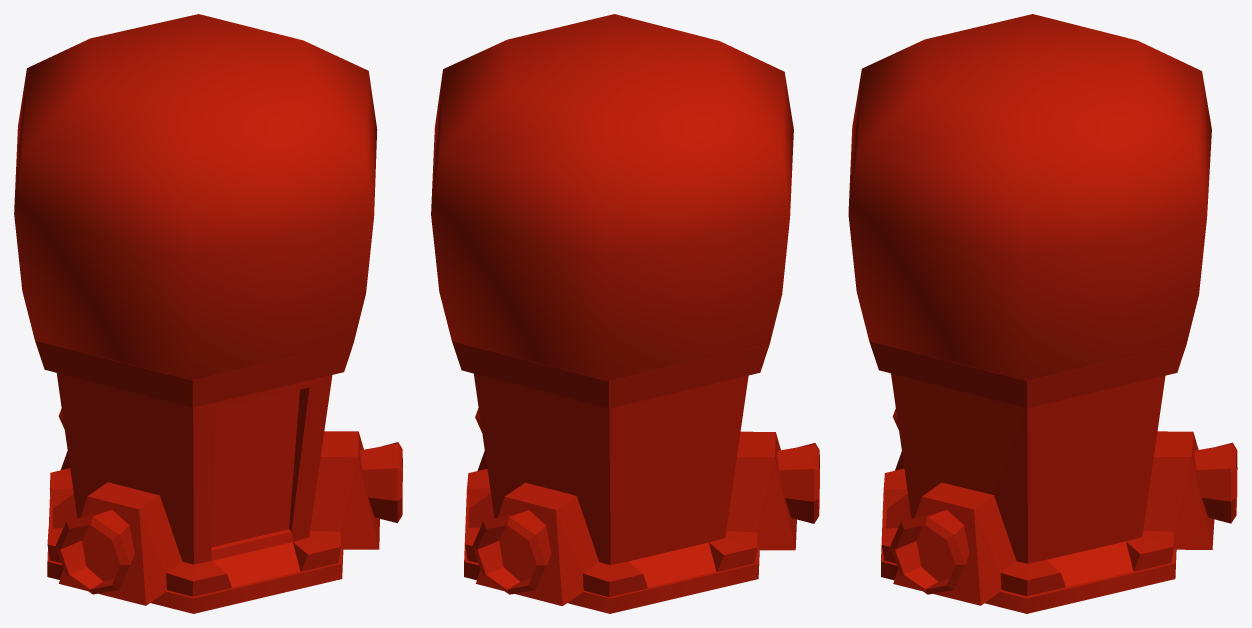
Rendered from (RED) Hydroponic Farm -- Low (MAP) (attached exported).FBX.
3 views of the same model, side by side, from view 1: azimuth 30°, elevation 25°; view 2: azimuth 150°, elevation 25°; view 3: azimuth 270°, elevation 25° (orthographic).
Parts seen in each view (by area): view 1: Glass Dome, Security Center (Building); view 2: Glass Dome, Security Center (Building); view 3: Glass Dome, Security Center (Building).
Boxes of the visible parts, x1,y1,x2,y2 form: Glass Dome: (14, 14, 377, 380); Security Center (Building): (35, 340, 402, 613); Glass Dome: (431, 14, 793, 380); Security Center (Building): (452, 341, 819, 613); Glass Dome: (848, 14, 1211, 380); Security Center (Building): (869, 341, 1237, 613).
Bounding box in the file's own units: 76.77 × 99.74 × 72.03.
